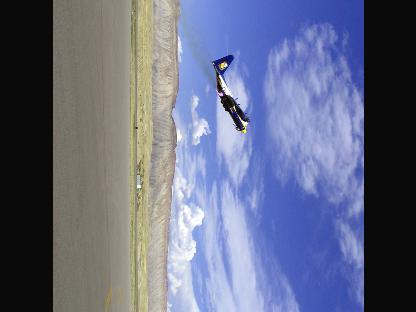Be200: (210, 53, 250, 132)
